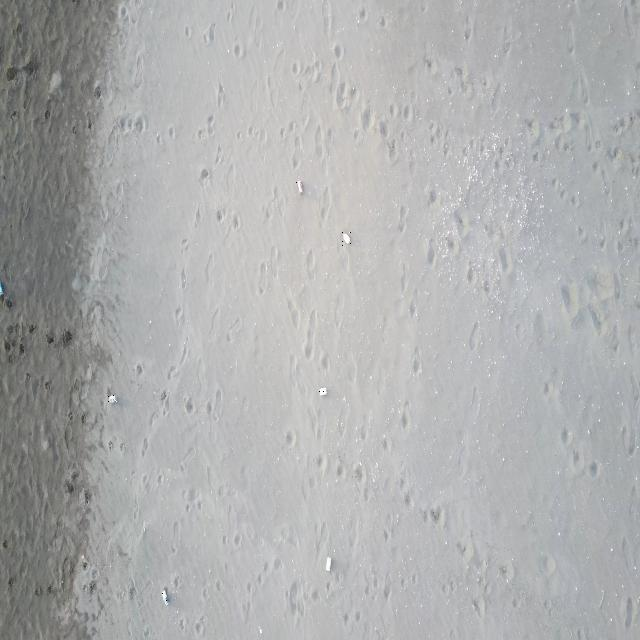tin-and-aluminum-cans: (161, 589, 169, 606), (325, 555, 333, 572), (342, 232, 351, 246), (296, 180, 304, 194), (108, 393, 117, 405), (319, 386, 327, 396)
